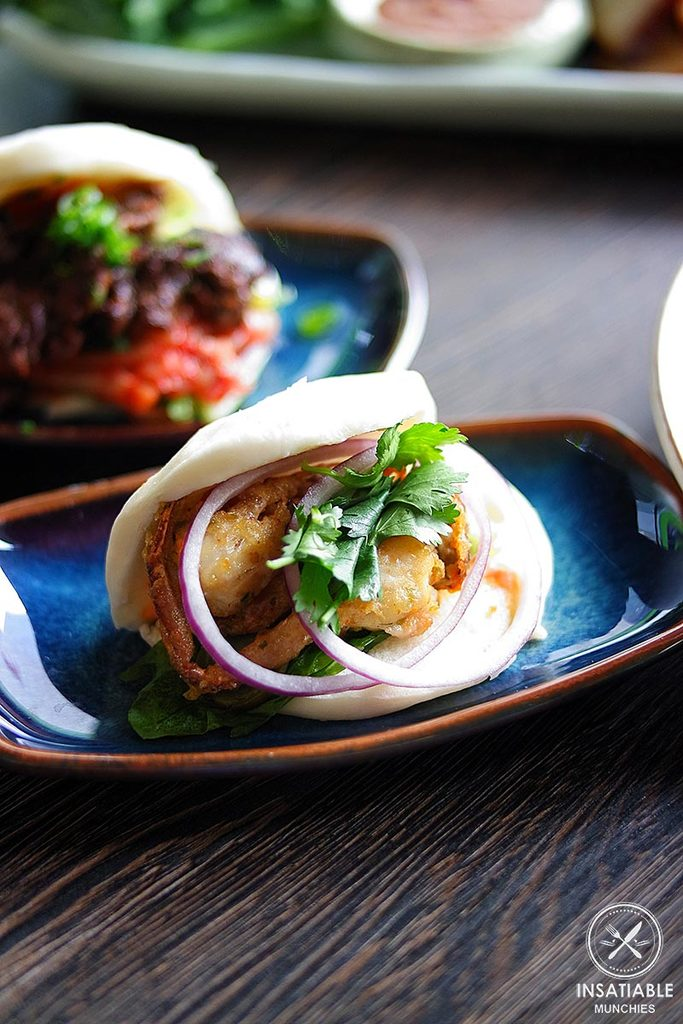taco: (141, 382, 550, 712)
